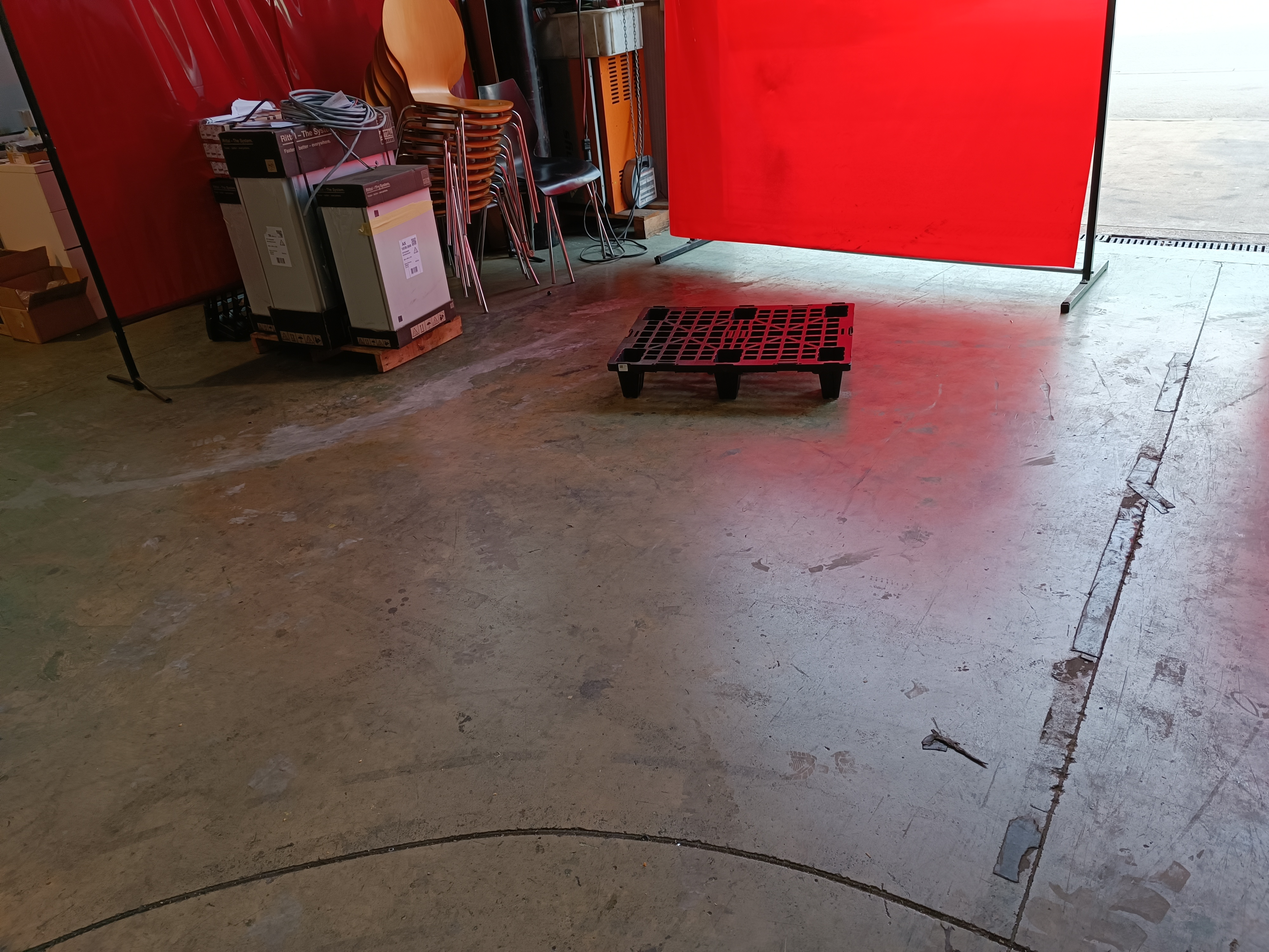block: (812, 363, 848, 397), (612, 357, 642, 397), (715, 365, 742, 405)
front: (608, 354, 850, 398)
hole pallet: (637, 369, 714, 406), (740, 372, 822, 397)
